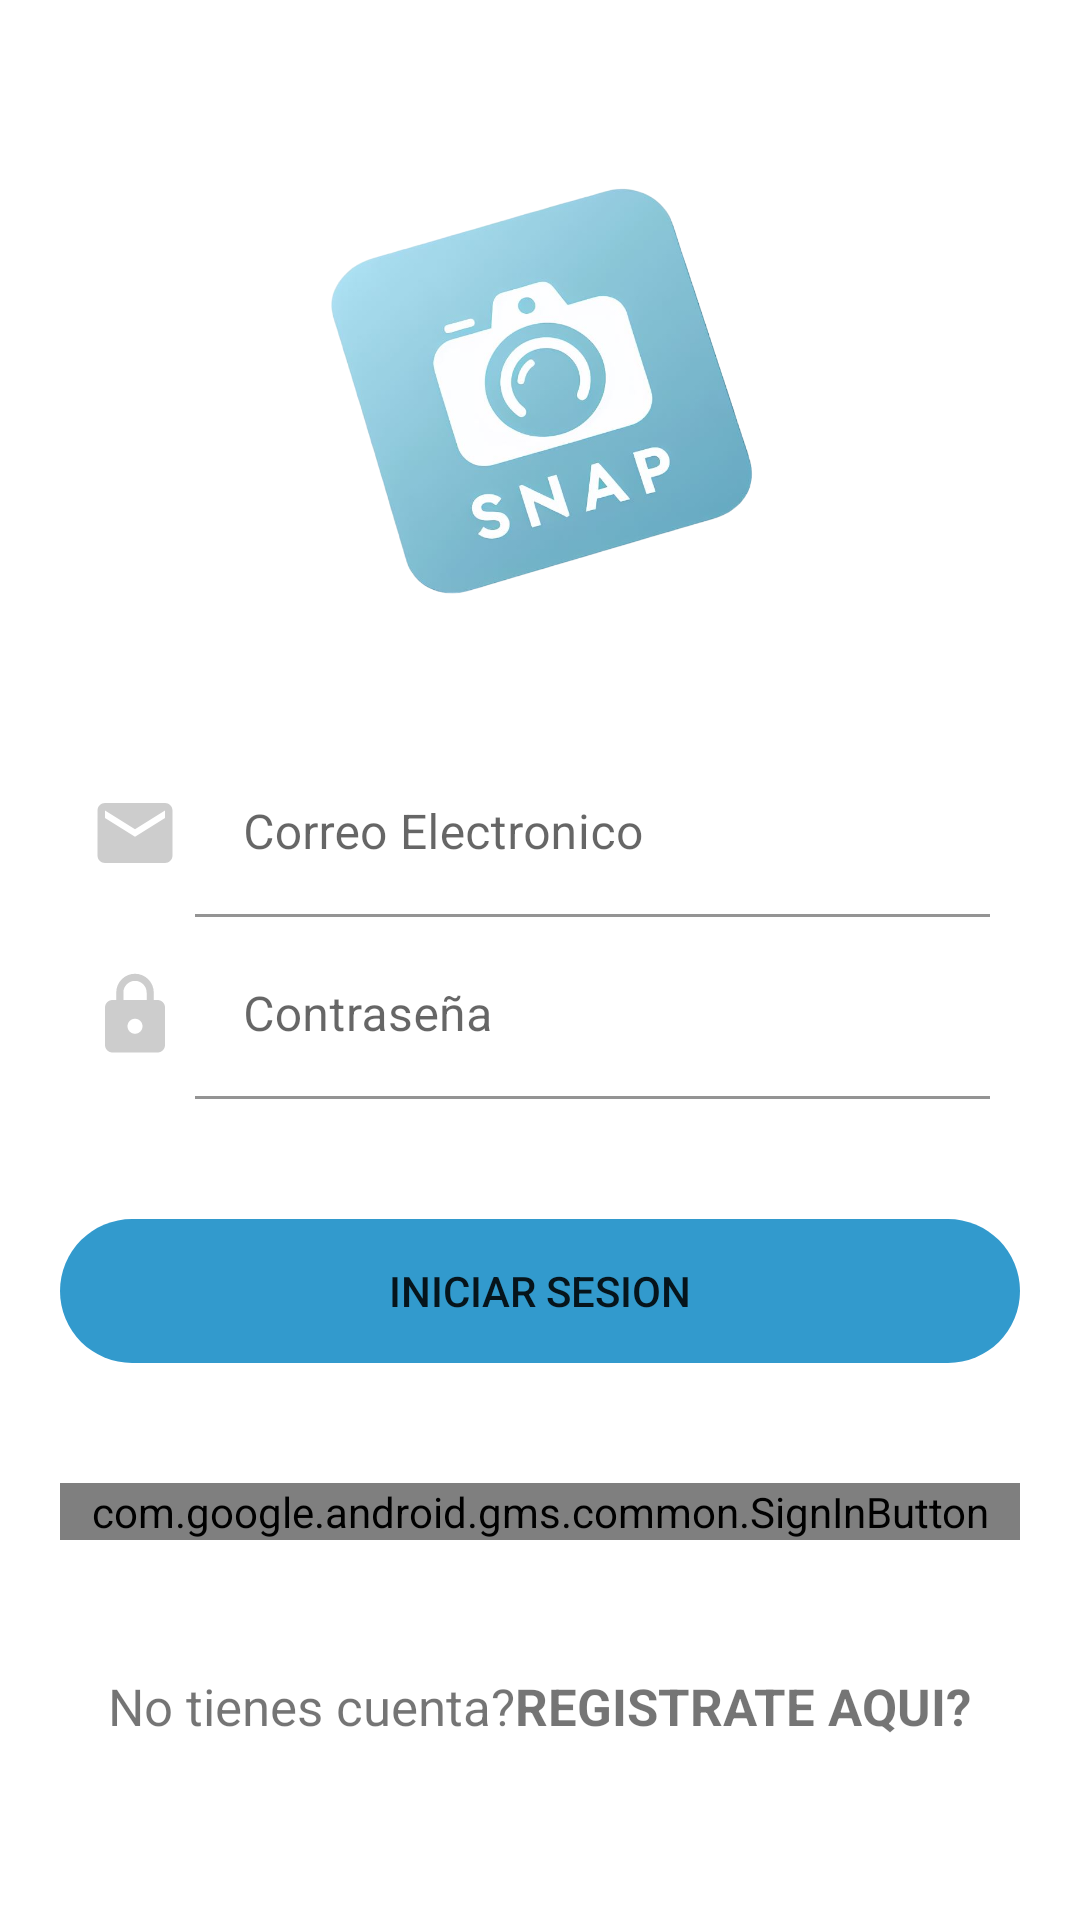

Locate icon controls on the screen. Image size 1080×1920, boxes as (x1=x1, y1=y1, x2=x2, y2=y2).
mail: (x1=97, y1=803, x2=173, y2=863)
password: (x1=105, y1=974, x2=165, y2=1053)
